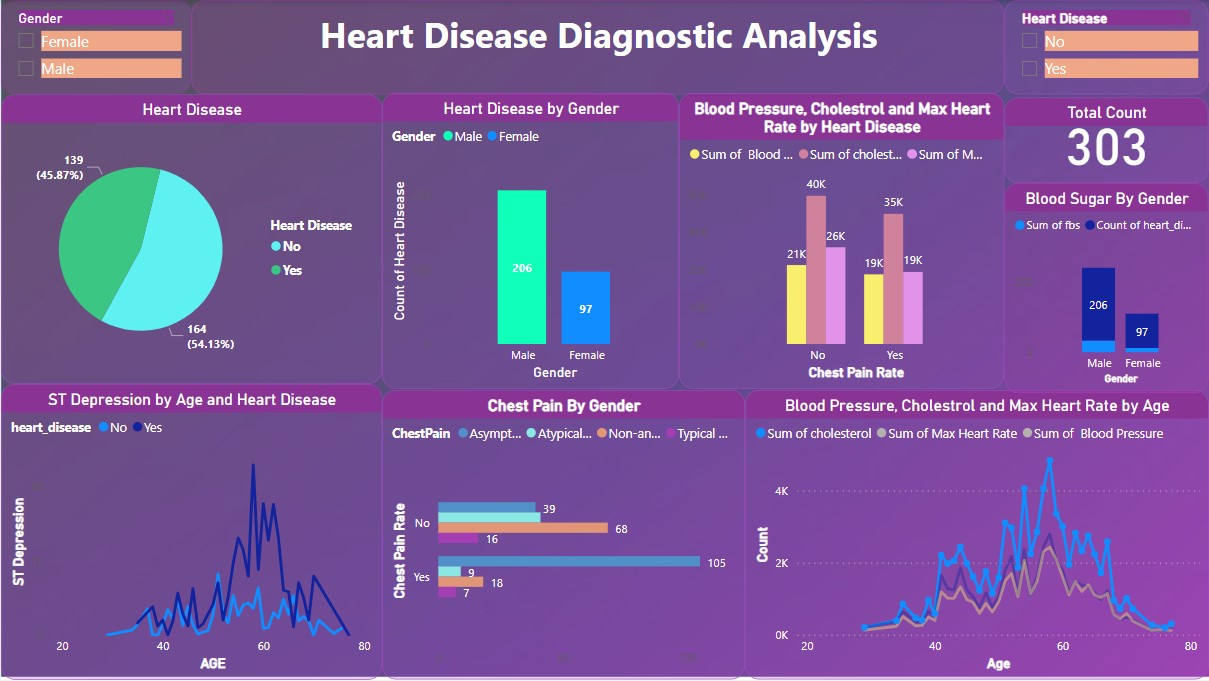

What the dashboard file says about the page in this screenshot:
{"tool":"powerbi","page":{"name":"Page 1","canvas":[1280,720],"ordinal":0},"visuals":[{"type":"slicer","fields":{"Values":["Heart_Disease_Diagnostic.Gender"]},"box":[0,0,201.9,100.1],"z":0},{"type":"slicer","title":"Heart Disease","fields":{"Values":["Heart_Disease_Diagnostic.heart_disease"]},"box":[1063.3,0,216.2,100.1],"z":1000},{"type":"pieChart","title":"Heart Disease","fields":{"Category":["Heart_Disease_Diagnostic.heart_disease"],"Y":["CountNonNull(Heart_Disease_Diagnostic.heart_disease)"]},"box":[0,100.1,403.7,306.8],"z":2000},{"type":"lineChart","title":"ST Depression by Age and Heart Disease","fields":{"Category":["Heart_Disease_Diagnostic.age"],"Y":["Sum(Heart_Disease_Diagnostic.oldpeak)"],"Series":["Heart_Disease_Diagnostic.heart_disease"]},"box":[0,406.9,403.7,313.1],"z":3000},{"type":"clusteredBarChart","title":"Chest Pain By Gender","fields":{"Category":["Heart_Disease_Diagnostic.heart_disease"],"Y":["CountNonNull(Heart_Disease_Diagnostic.ChestPain)"],"Series":["Heart_Disease_Diagnostic.ChestPain"]},"box":[403.7,413.2,384.6,306.8],"z":4000},{"type":"columnChart","title":"Heart Disease by Gender","fields":{"Category":["Heart_Disease_Diagnostic.Gender"],"Series":["Heart_Disease_Diagnostic.Gender"],"Y":["CountNonNull(Heart_Disease_Diagnostic.heart_disease)"]},"box":[403.7,98.5,314.7,313.1],"z":5000},{"type":"card","title":"Total Count","fields":{"Values":["Heart_Disease_Diagnostic.Measure"]},"box":[1063.3,103.3,216.2,90.6],"z":6000},{"type":"lineChart","title":"Blood Pressure, Cholestrol and Max Heart Rate by Age","fields":{"Category":["Heart_Disease_Diagnostic.age"],"Y":["Sum(Heart_Disease_Diagnostic.cholesterol)","Sum(Heart_Disease_Diagnostic.Max Heart Rate)","Sum(Heart_Disease_Diagnostic. Blood Pressure)"]},"box":[788.3,413.2,491.1,306.8],"z":7000},{"type":"textbox","box":[201.9,0,861.5,100.1],"z":8000},{"type":"clusteredColumnChart","title":"Blood Pressure, Cholestrol and Max Heart Rate by Heart Disease","fields":{"Category":["Heart_Disease_Diagnostic.heart_disease"],"Y":["Sum(Heart_Disease_Diagnostic. Blood Pressure)","Sum(Heart_Disease_Diagnostic.cholesterol)","Sum(Heart_Disease_Diagnostic.Max Heart Rate)"]},"box":[718.4,98.5,344.9,313.1],"z":9000},{"type":"columnChart","title":"Blood Sugar By Gender","fields":{"Category":["Heart_Disease_Diagnostic.Gender"],"Y":["Sum(Heart_Disease_Diagnostic.fbs)","CountNonNull(Heart_Disease_Diagnostic.heart_disease)"]},"box":[1063.3,193.9,216.2,222.5],"z":10000}]}

Visuals, with their boxes in screenshot pixels (x1, y1, x2, y2), scaled from the page's 1280x720 canvas onto the 1209x681 screenshot:
slicer - Heart_Disease_Diagnostic.Gender: Rect(0, 0, 191, 95)
"Heart Disease" slicer: Rect(1004, 0, 1208, 95)
"Heart Disease" pieChart: Rect(0, 95, 381, 385)
"ST Depression by Age and Heart Disease" lineChart: Rect(0, 385, 381, 680)
"Chest Pain By Gender" clusteredBarChart: Rect(381, 391, 745, 680)
"Heart Disease by Gender" columnChart: Rect(381, 93, 679, 389)
"Total Count" card: Rect(1004, 98, 1208, 183)
"Blood Pressure, Cholestrol and Max Heart Rate by Age" lineChart: Rect(745, 391, 1208, 680)
textbox: Rect(191, 0, 1004, 95)
"Blood Pressure, Cholestrol and Max Heart Rate by Heart Disease" clusteredColumnChart: Rect(679, 93, 1004, 389)
"Blood Sugar By Gender" columnChart: Rect(1004, 183, 1208, 394)
